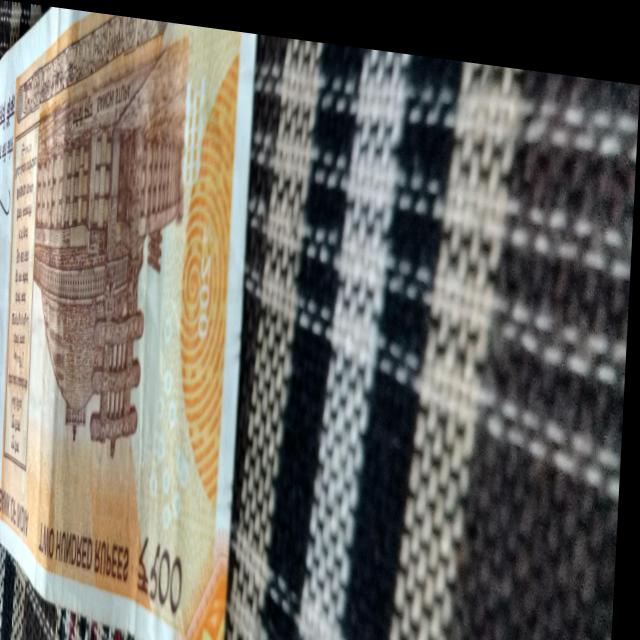Currency: (0, 9, 267, 640)
